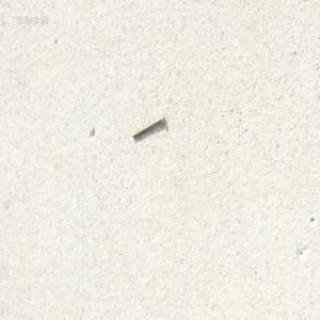Bolttrack_idkeyframe: (130, 112, 163, 138)
